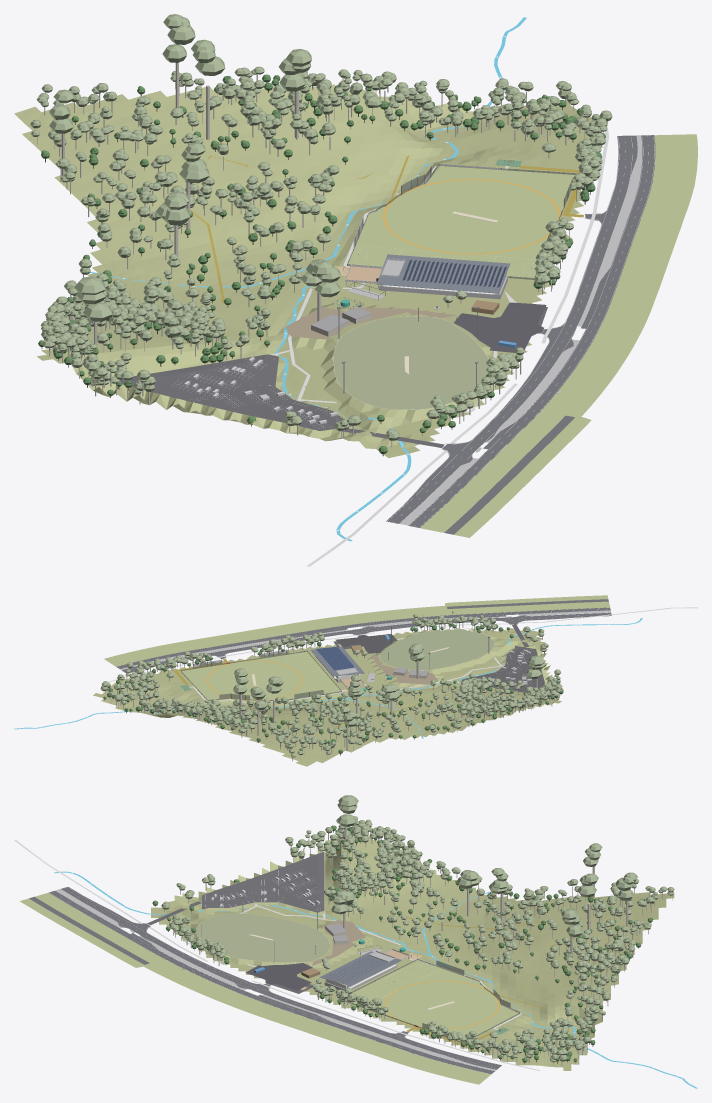
The model's file is KHFR_stage3_summer.glb.
The picture shows the model from 3 angles, top to bottom: view 1: azimuth 30°, elevation 25°; view 2: azimuth 150°, elevation 25°; view 3: azimuth 270°, elevation 25°; orthographic projection. The views are drawn at different scales.
Visible parts, largest first — view 1: Reserve terrain, Bushland forest (euc_can), Road reserve (far verge), field N flatgrass, Bush planting zones (euc_can), Existing Ground 1 (worn turf), Swansea Rd NE-bound (surveyed both edges), Giant eucalypts (canopies), New car park (~220), Swansea Rd SW-bound (2 lanes, smooth), Tennis precinct bush retained (euc_can), Bushland forest (wat_can) (+16 smaller); view 2: Reserve terrain, Bushland forest (euc_can), Road reserve (far verge), field N flatgrass, Bush planting zones (euc_can), Existing Ground 1 (worn turf), Giant eucalypts (canopies), Swansea Rd SW-bound (2 lanes, smooth), Tennis precinct bush retained (euc_can), Swansea Rd NE-bound (surveyed both edges), New car park (~220), Bushland forest (wat_can) (+12 smaller); view 3: Reserve terrain, Bushland forest (euc_can), Road reserve (far verge), field N flatgrass, Bush planting zones (euc_can), Existing Ground 1 (worn turf), New car park (~220), Swansea Rd NE-bound (surveyed both edges), Giant eucalypts (canopies), Tennis precinct bush retained (euc_can), Swansea Rd SW-bound (2 lanes, smooth), Bushland forest (wat_can) (+14 smaller).
Boxes of the visible parts, x1,y1,x2,y2 form: Reserve terrain: (14,84,605,457); Bushland forest (euc_can): (30,71,399,440); Road reserve (far verge): (420,134,697,537); field N flatgrass: (347,166,575,279); Bush planting zones (euc_can): (215,66,612,414); Existing Ground 1 (worn turf): (333,316,489,409); Swansea Rd NE-bound (surveyed both edges): (386,135,637,523); Giant eucalypts (canopies): (49,14,311,321); New car park (~220): (119,354,352,430); Swansea Rd SW-bound (2 lanes, smooth): (408,135,655,527); Tennis precinct bush retained (euc_can): (40,295,232,385); Bushland forest (wat_can): (41,82,387,453); Reserve terrain: (93,628,561,766); Bushland forest (euc_can): (183,626,561,757); Road reserve (far verge): (104,595,609,666); field N flatgrass: (180,651,341,700); Bush planting zones (euc_can): (100,614,496,727); Existing Ground 1 (worn turf): (379,629,494,669); Giant eucalypts (canopies): (233,655,545,726); Swansea Rd SW-bound (2 lanes, smooth): (116,607,610,668); Tennis precinct bush retained (euc_can): (455,676,563,715); Swansea Rd NE-bound (surveyed both edges): (121,612,611,673); New car park (~220): (462,645,544,692); Bushland forest (wat_can): (212,628,553,753); Reserve terrain: (151,831,674,1070); Bushland forest (euc_can): (161,823,674,985); Road reserve (far verge): (20,892,490,1084); field N flatgrass: (345,960,519,1042); Bush planting zones (euc_can): (169,914,635,1062); Existing Ground 1 (worn turf): (196,913,329,962); New car park (~220): (202,852,324,912); Swansea Rd NE-bound (surveyed both edges): (61,887,501,1069); Giant eucalypts (canopies): (337,795,637,937); Tennis precinct bush retained (euc_can): (298,816,417,894); Swansea Rd SW-bound (2 lanes, smooth): (49,890,494,1074); Bushland forest (wat_can): (152,827,652,984).
Size of the model in its own units: 495 by 86.35 by 604.
